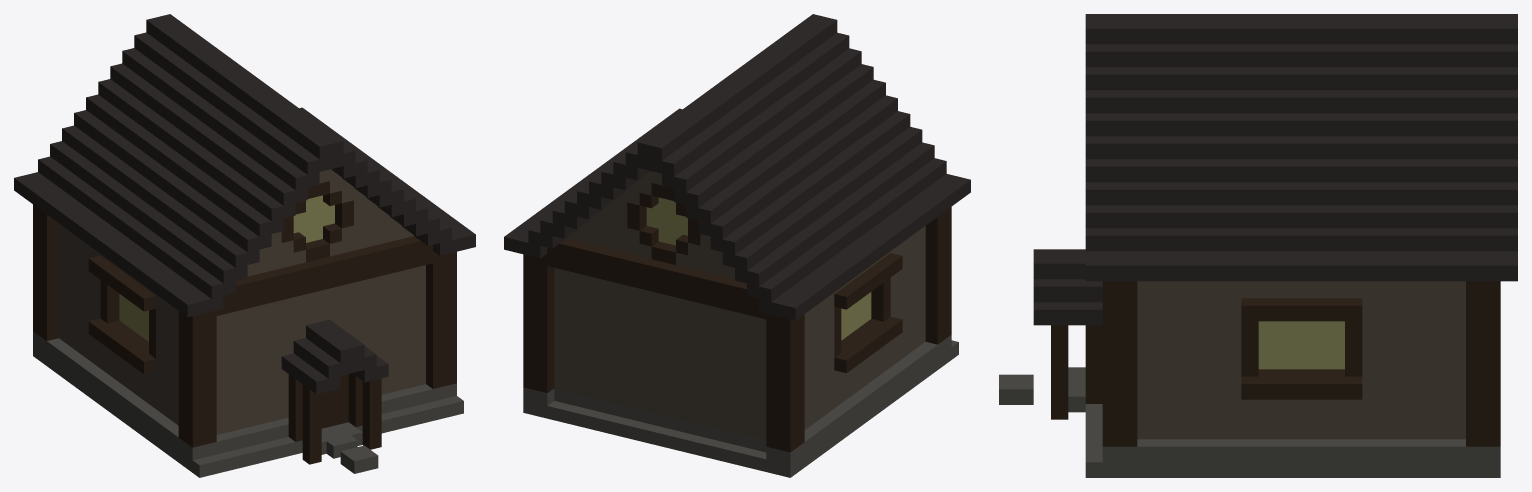
The model's file is home.obj.
3 renders of one model, left to right at view 1: azimuth 30°, elevation 25°; view 2: azimuth 150°, elevation 25°; view 3: azimuth 270°, elevation 25°, orthographic. The views are drawn at different scales.
Bounding box in the file's own units: 2.4 × 2.4 × 3.
1 material, 1 textured.
